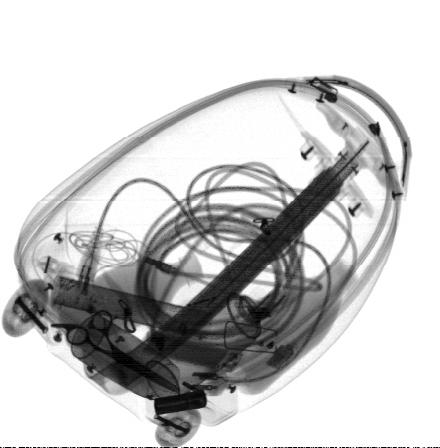Lighter: (154, 390, 207, 416)
Powerbank: (142, 324, 248, 378)
Scissors: (50, 310, 182, 395)
Sprayer: (71, 312, 196, 414)
